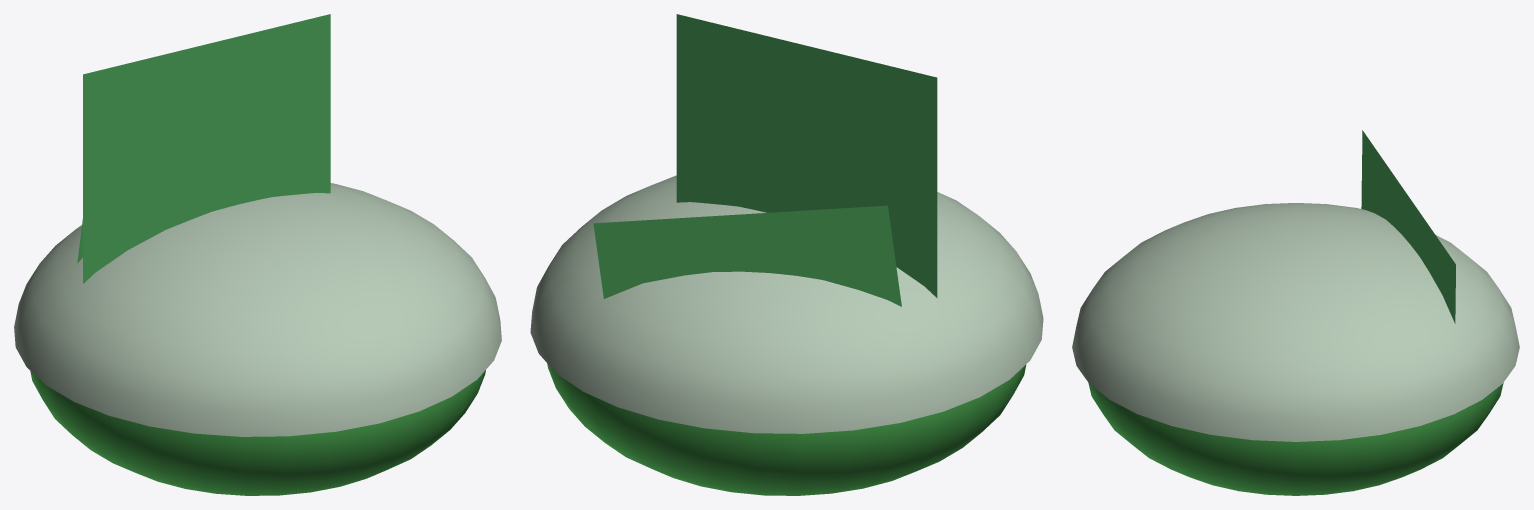
Rendered from Bush01.fbx.
3 renders of one model, left to right at view 1: azimuth 30°, elevation 25°; view 2: azimuth 150°, elevation 25°; view 3: azimuth 270°, elevation 25°, orthographic. The views are drawn at different scales.
Visible parts, largest first — view 1: Bush01; view 2: Bush01; view 3: Bush01.
Boxes of the visible parts, x1,y1,x2,y2 form: Bush01: [14, 14, 501, 495]; Bush01: [530, 14, 1043, 495]; Bush01: [1072, 130, 1519, 495].
Bounding box in the file's own units: 342 × 318 × 342.
